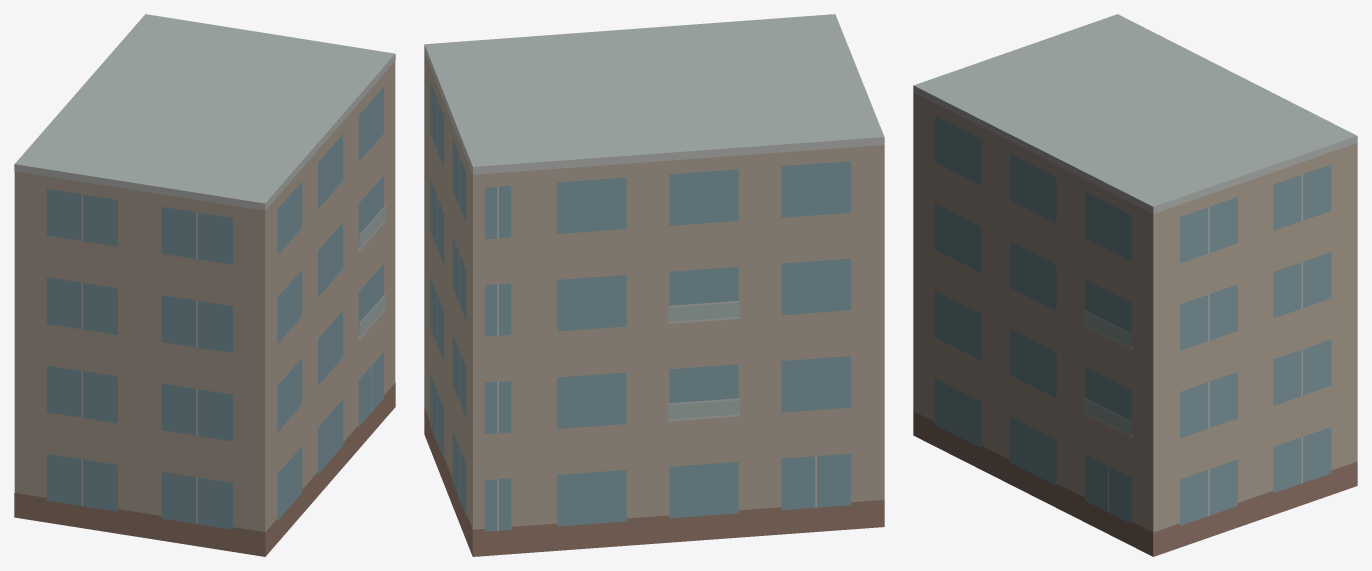
Rendered from survey-upis-32736774.glb.
The picture shows the model from 3 angles, left to right: view 1: azimuth 30°, elevation 25°; view 2: azimuth 150°, elevation 25°; view 3: azimuth 270°, elevation 25°; orthographic projection. The views are drawn at different scales.
Parts seen in each view (by area): view 1: survey-upis-32736774.tmp; view 2: survey-upis-32736774.tmp; view 3: survey-upis-32736774.tmp.
Boxes of the visible parts, box(x1,y1,x2,y2) form: survey-upis-32736774.tmp: box(14, 14, 395, 556); survey-upis-32736774.tmp: box(424, 14, 884, 556); survey-upis-32736774.tmp: box(913, 14, 1357, 556).
Size of the model in its own units: 14.31 by 12.1 by 13.92.
